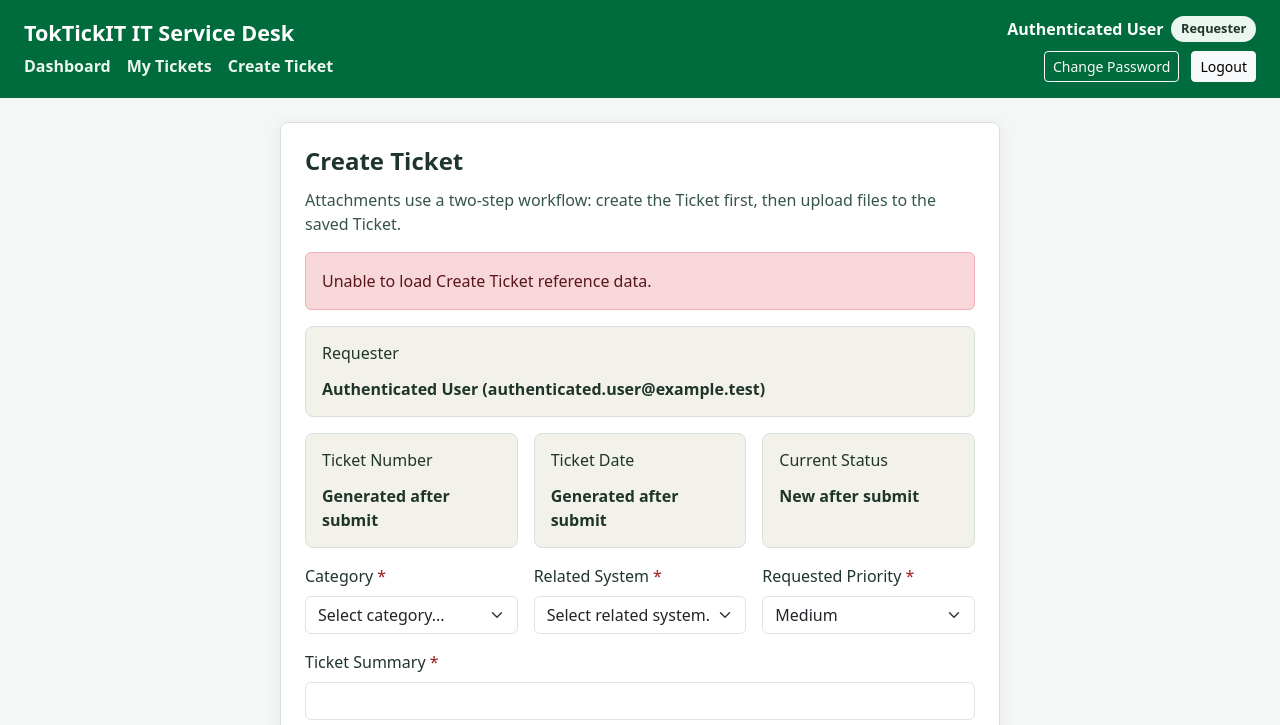
it: Lab 3 authenticated application shell › UI-03 keeps authenticated access visible and shows safe feedback when logout fails
What coordinates should you click on to do the following:
click the button "Logout"
I would click on:
 (1224, 67)
Its box is 1191,51 -> 1256,82.
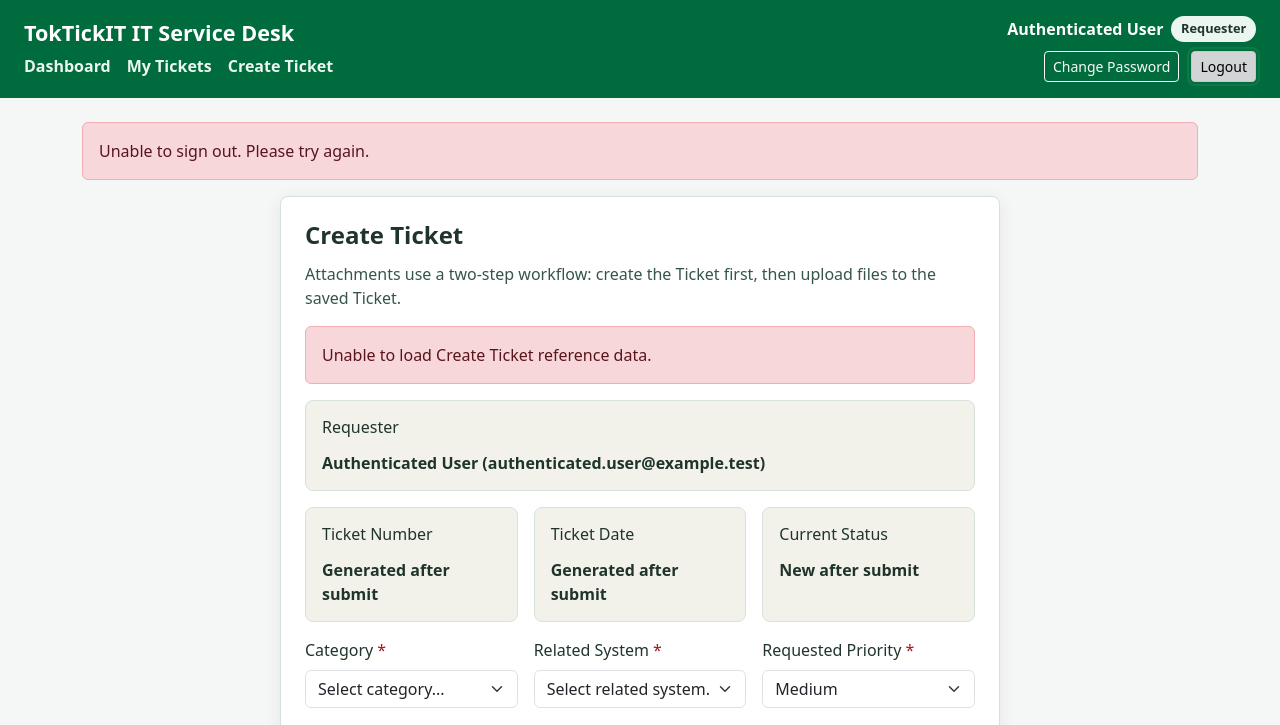
Expected: the text "Authenticated User" is shown, 1007,17 -> 1164,41
Expected: the text "Unable to sign out. Please try again." is shown, 82,122 -> 1198,180
